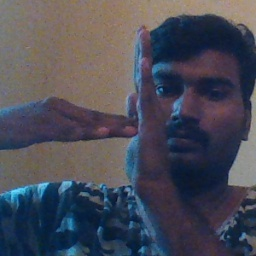Z: (59, 24, 173, 192)
